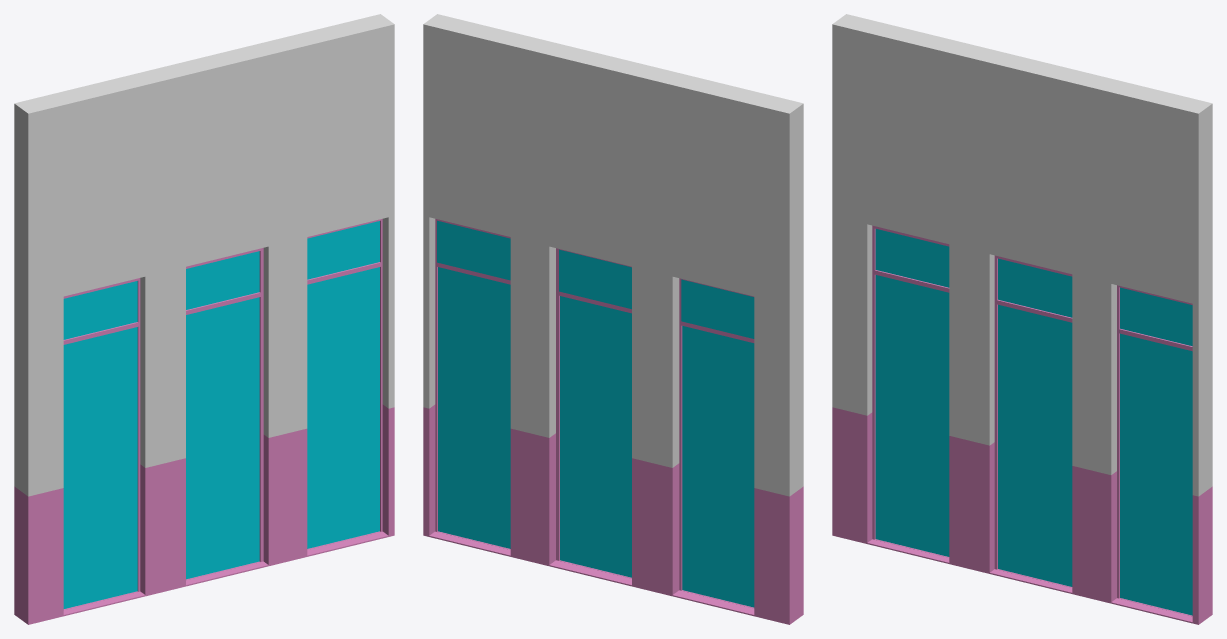
The model's file is WallOffice6.fbx.
The picture shows the model from 3 angles, left to right: view 1: azimuth 30°, elevation 25°; view 2: azimuth 150°, elevation 25°; view 3: azimuth 330°, elevation 25°; orthographic projection.
Visible parts, largest first — view 1: WallOfficeWindow1; view 2: WallOfficeWindow1; view 3: WallOfficeWindow1.
Boxes of the visible parts, x1,y1,x2,y2 form: WallOfficeWindow1: (14,14,394,624); WallOfficeWindow1: (423,14,803,624); WallOfficeWindow1: (832,14,1212,624).
Size of the model in its own units: 300 by 400 by 20.01.
